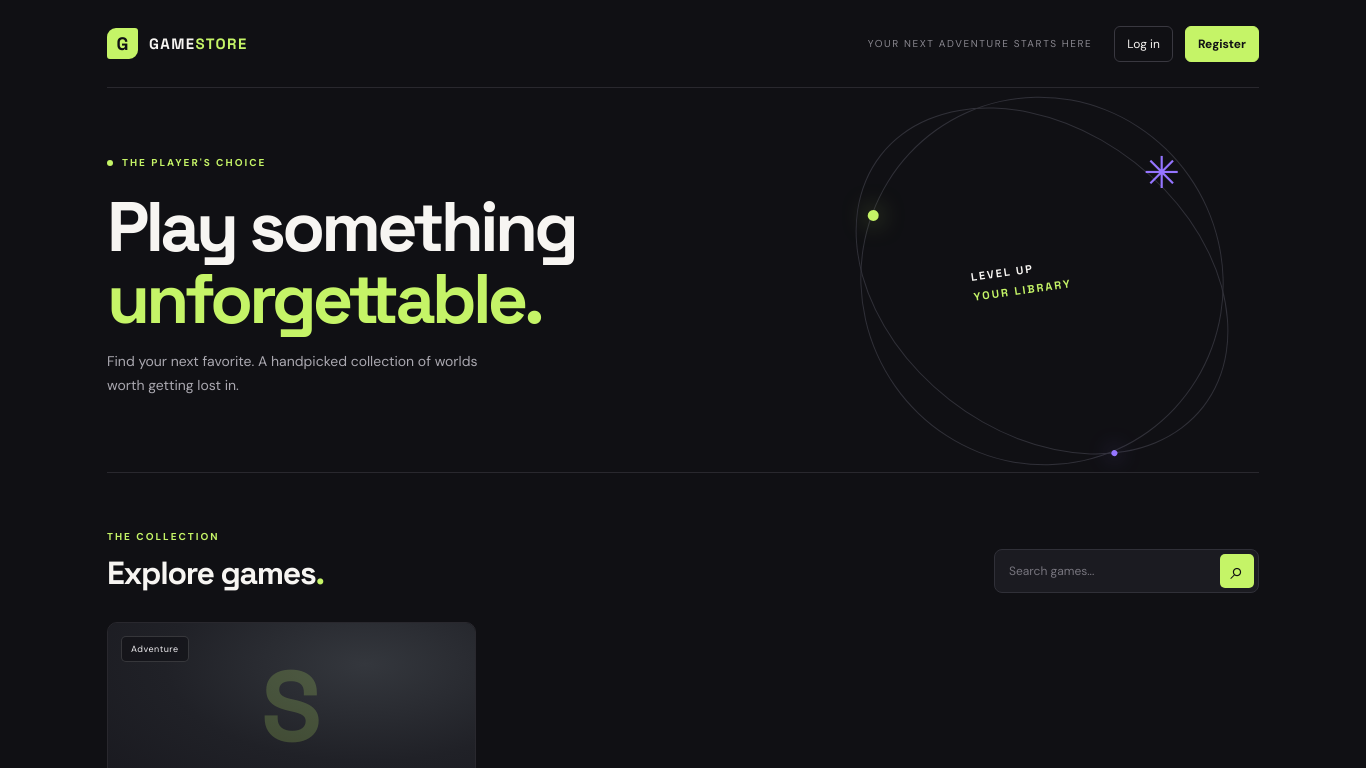
Test: GameStore catalog › rejects mismatched passwords before sending a registration request
Click the button "Register" at (1222, 44), box [1185,26,1259,62]
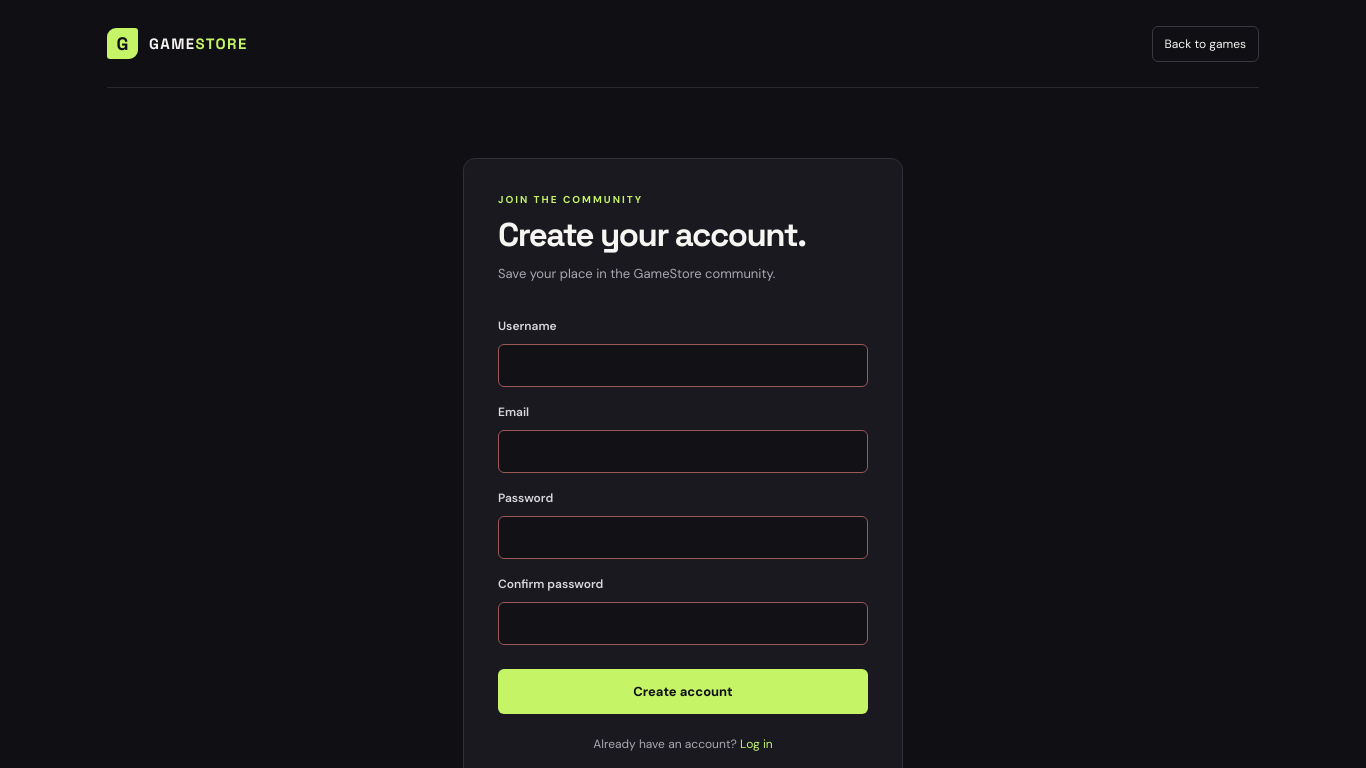
Type "playerone" into the field labelled "Username" at (683, 365), box [498,344,868,387]
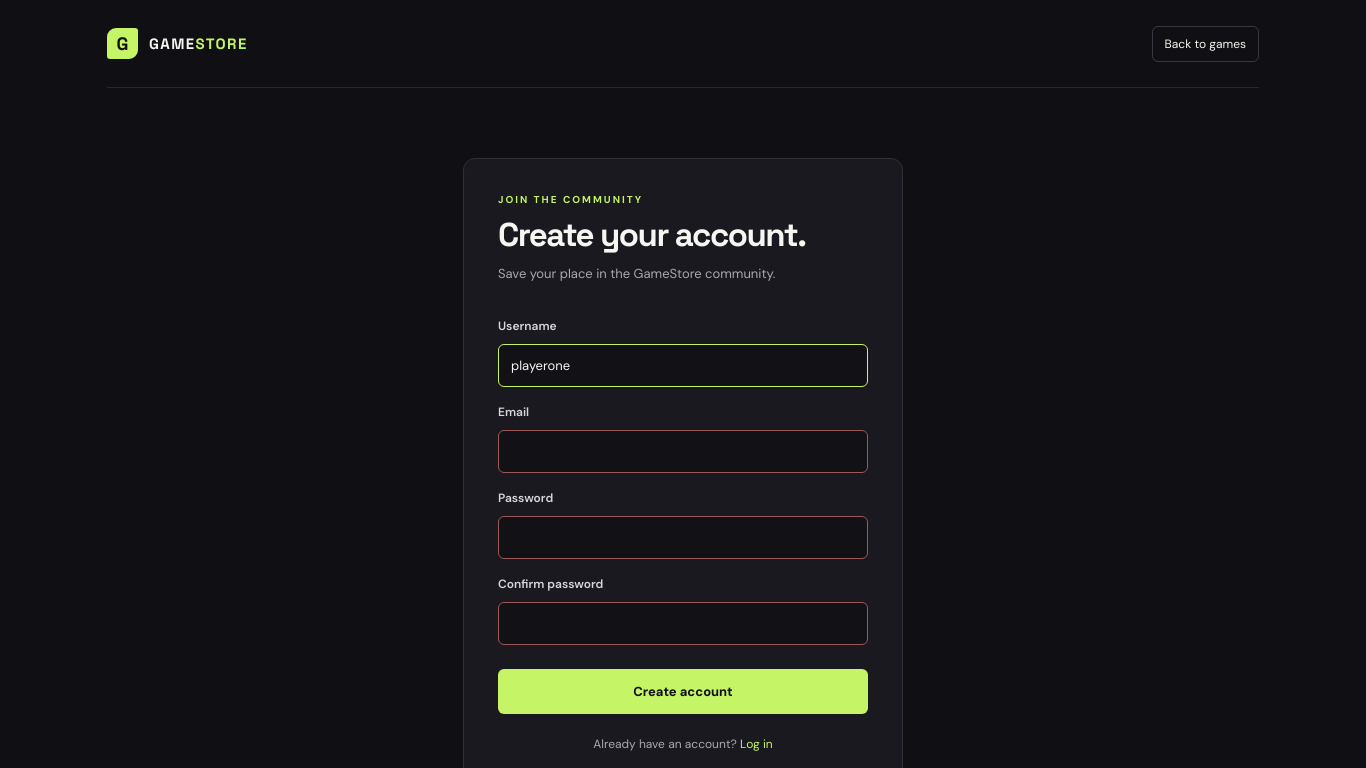
Type "playerone@example.com" into the field labelled "Email" at (683, 451), box [498,430,868,473]
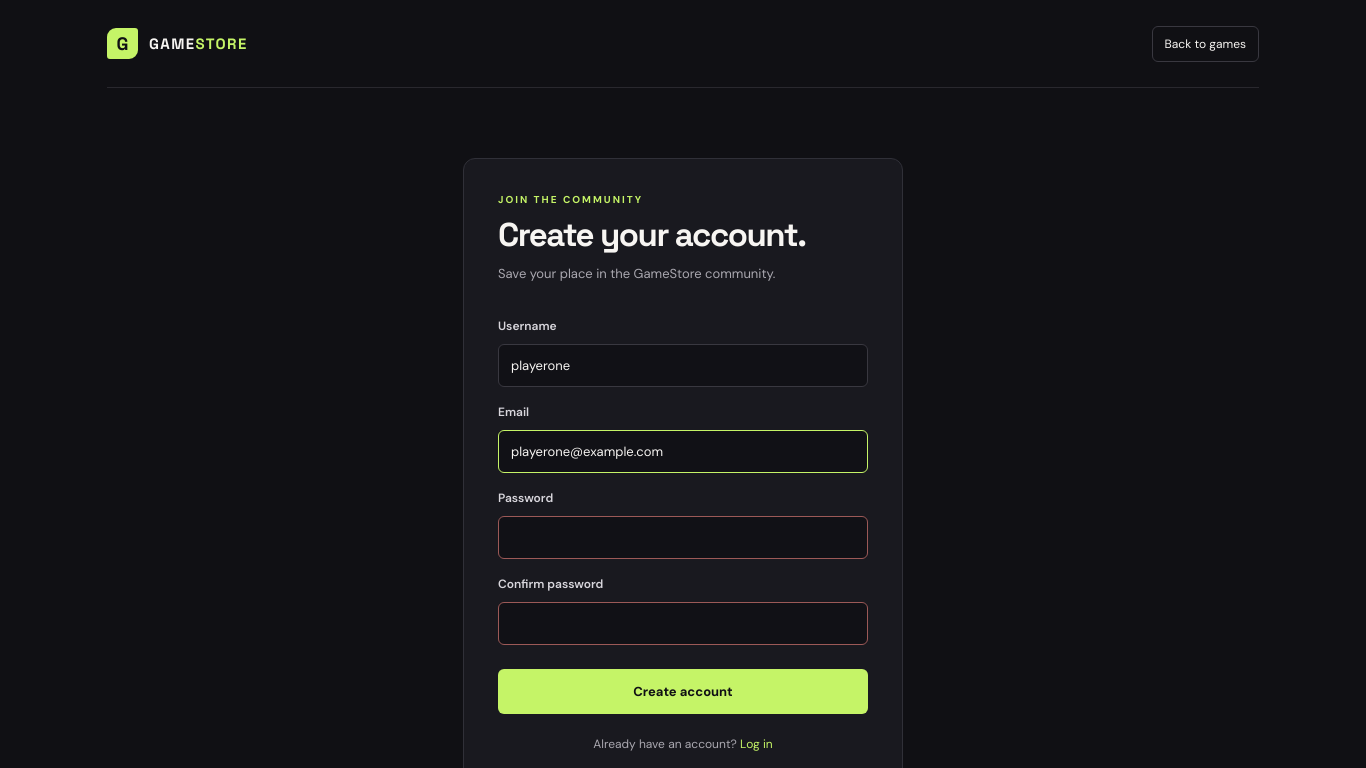
Type "secure-password-123" into the password field labelled "Password" at (683, 537), box [498,516,868,559]
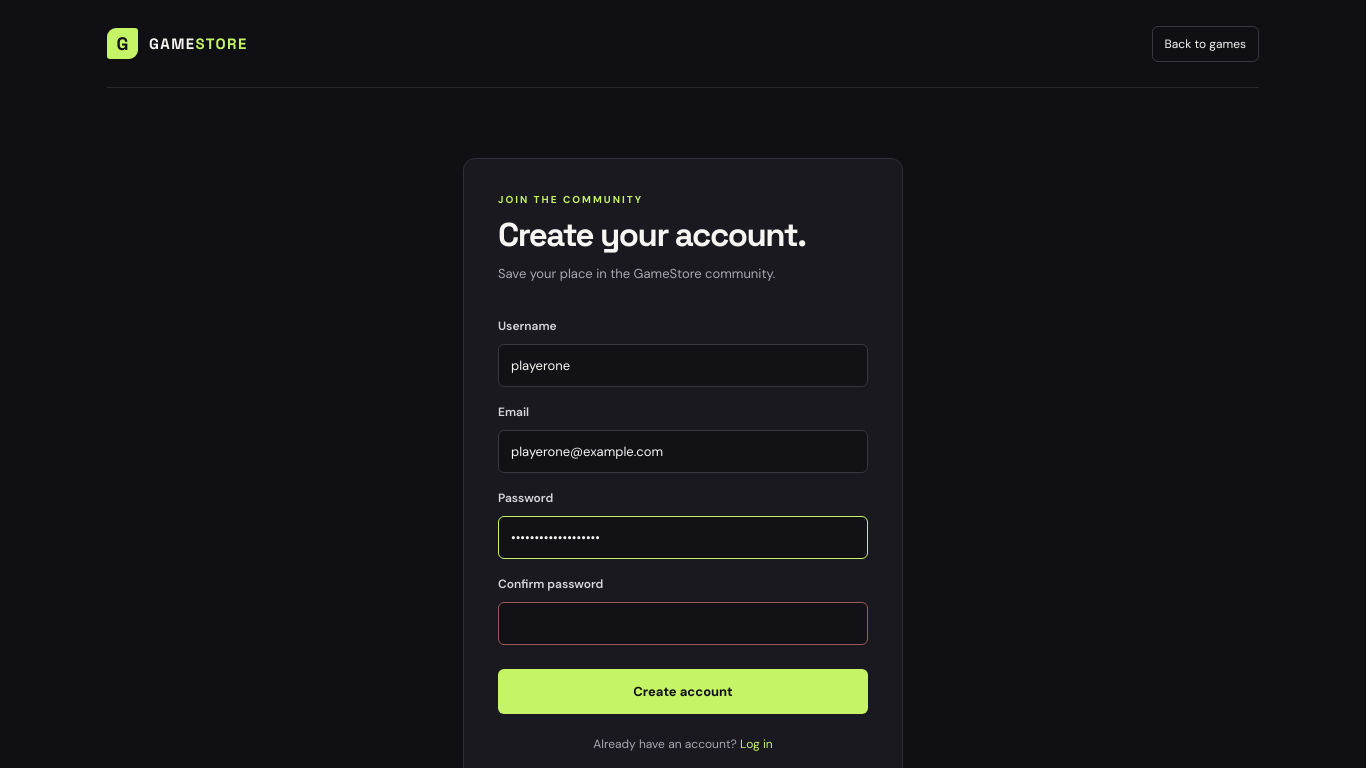
Type "a-different-password" into the password field labelled "Confirm password" at (683, 623), box [498,602,868,645]
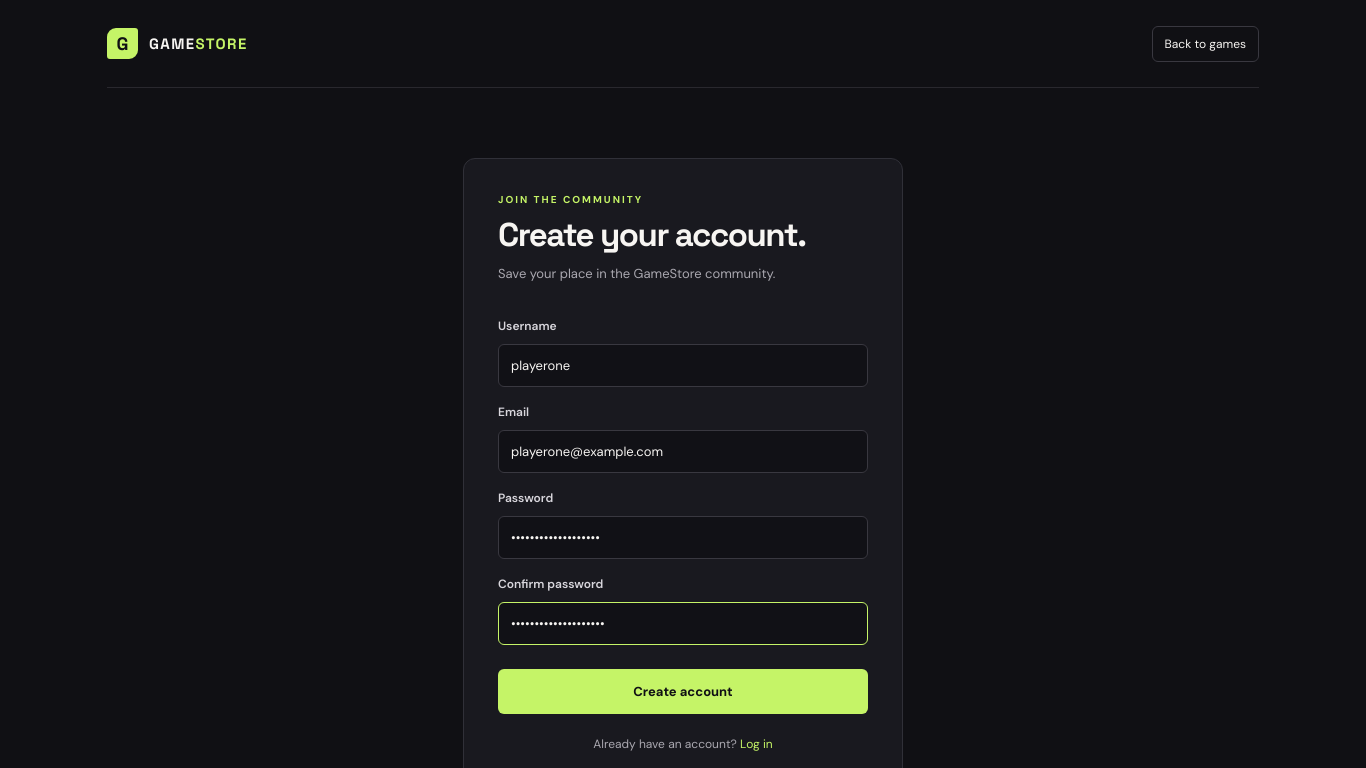
Click the button "Create account" at (683, 691), box [498,669,868,714]
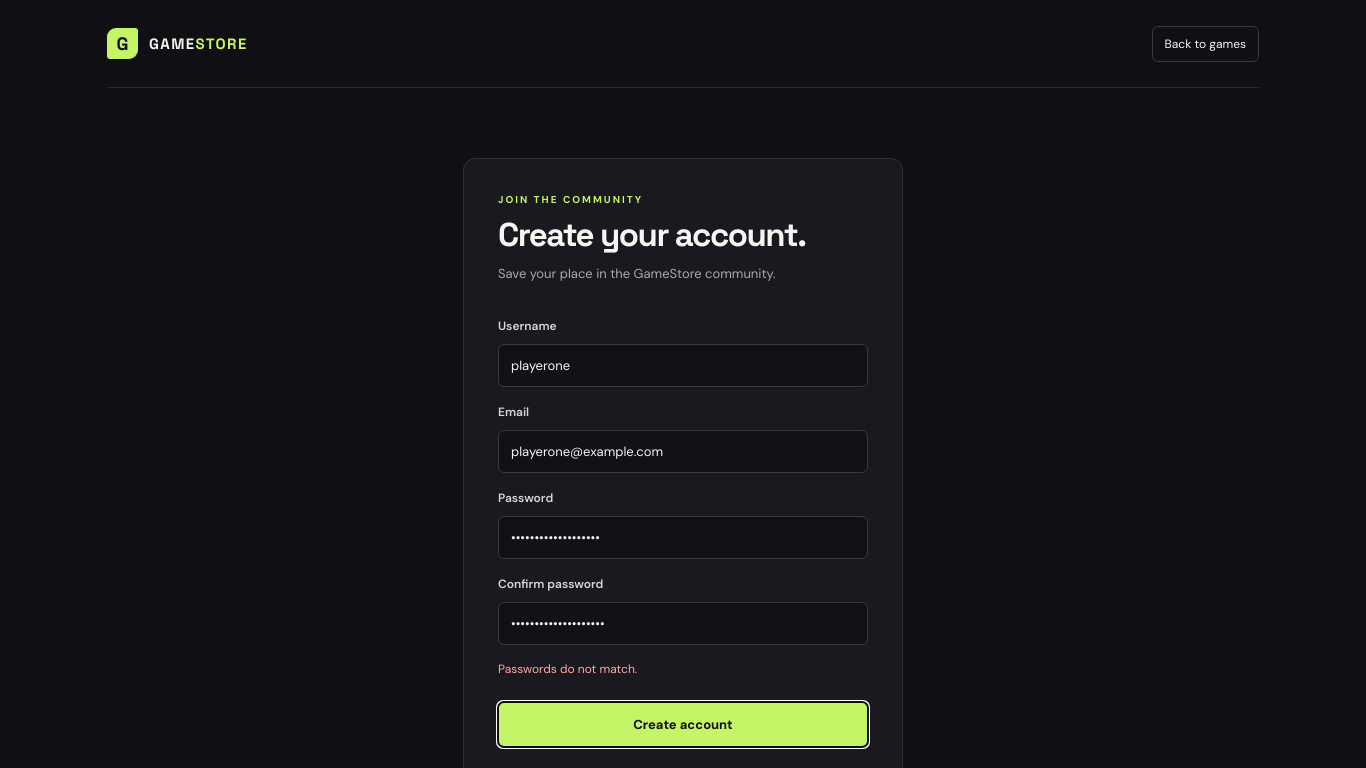
Now the message shows "Passwords do not match", box [498,661,637,677]
